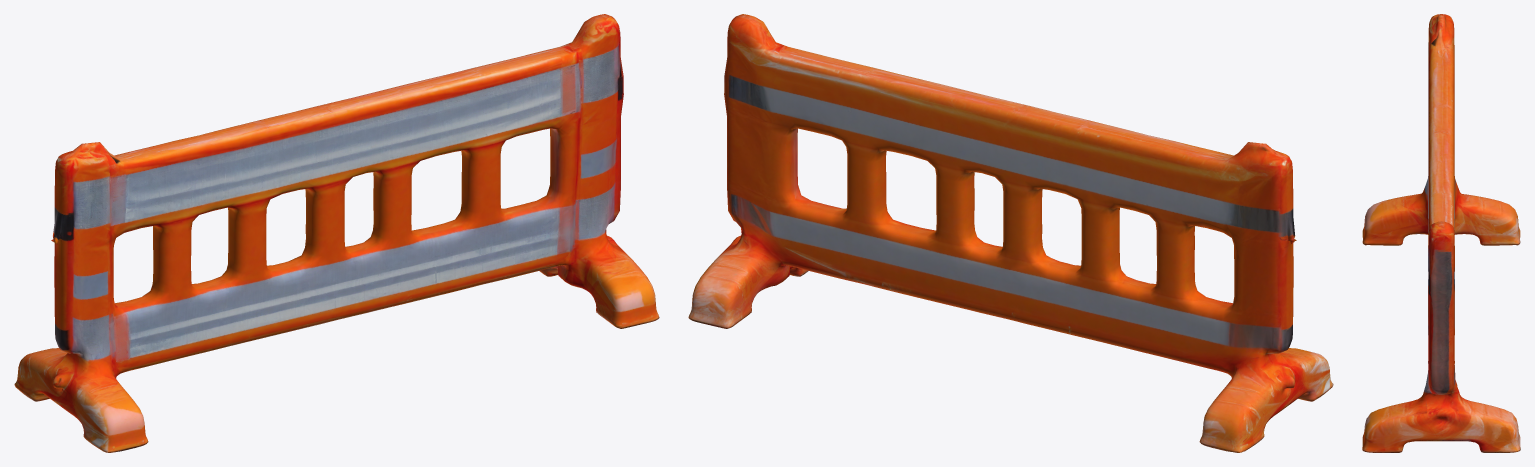
The model's file is f6d88f54-f133-4afa-92c0-e66cb52a4519.glb.
3 views of the same model, side by side, from view 1: azimuth 30°, elevation 25°; view 2: azimuth 150°, elevation 25°; view 3: azimuth 270°, elevation 25° (orthographic). The views are drawn at different scales.
Bounding box in the file's own units: 2 × 0.919 × 0.585.
Materials: 1 (1 with a texture image).
